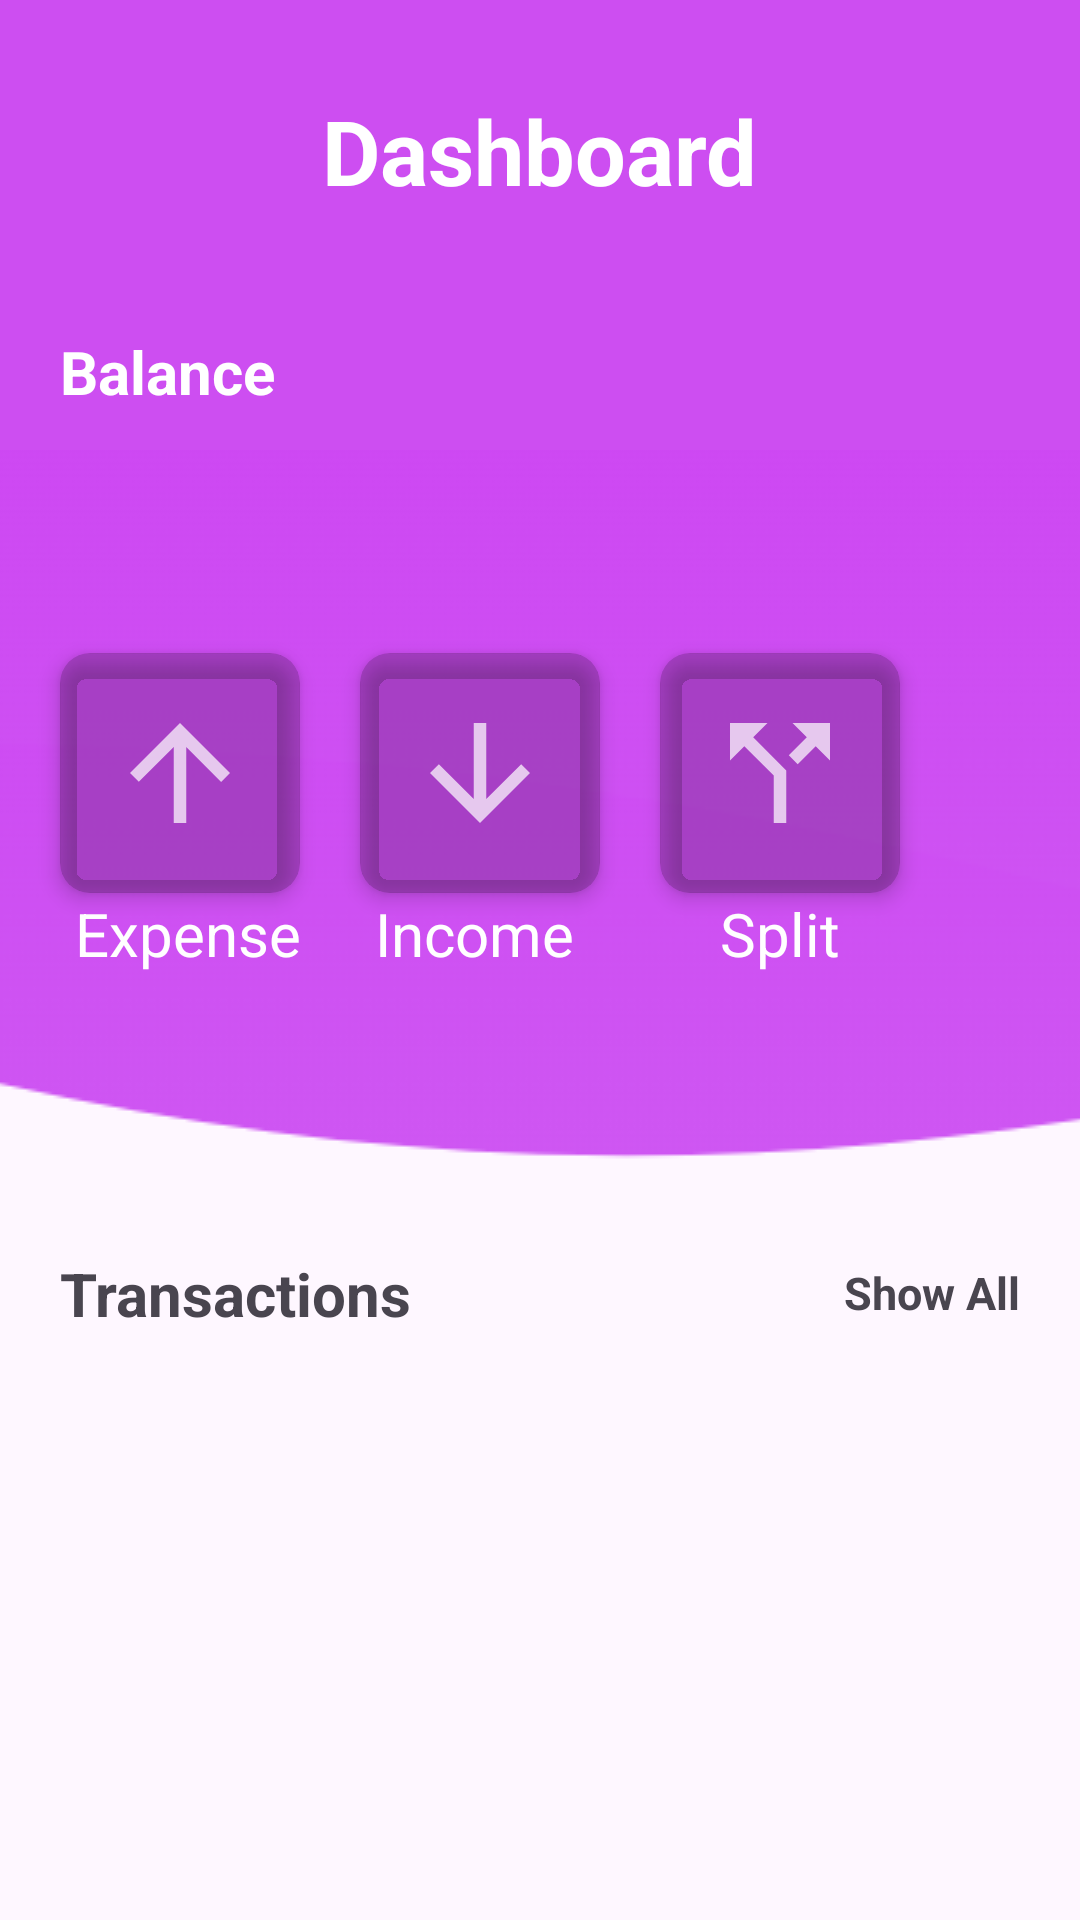

Where icons sit on this 1080*1920 app screen, as [x1=x1, y1=y1, x2=x2, y2=y2]:
arrow downside: [x1=430, y1=723, x2=530, y2=823]
arrow upside: [x1=130, y1=723, x2=230, y2=823]
